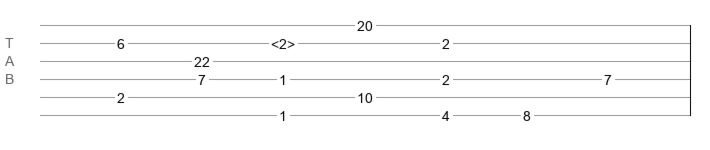1: (279, 72, 287, 82), (279, 108, 287, 118)
10: (357, 90, 373, 100)
2: (117, 90, 125, 100), (442, 36, 450, 46), (442, 72, 450, 82)
20: (357, 18, 373, 28)
22: (194, 54, 210, 64)
4: (442, 108, 450, 118)
6: (117, 36, 125, 46)
7: (198, 72, 206, 82), (604, 72, 612, 82)
8: (523, 108, 531, 118)
harmonic: (271, 36, 295, 46)
